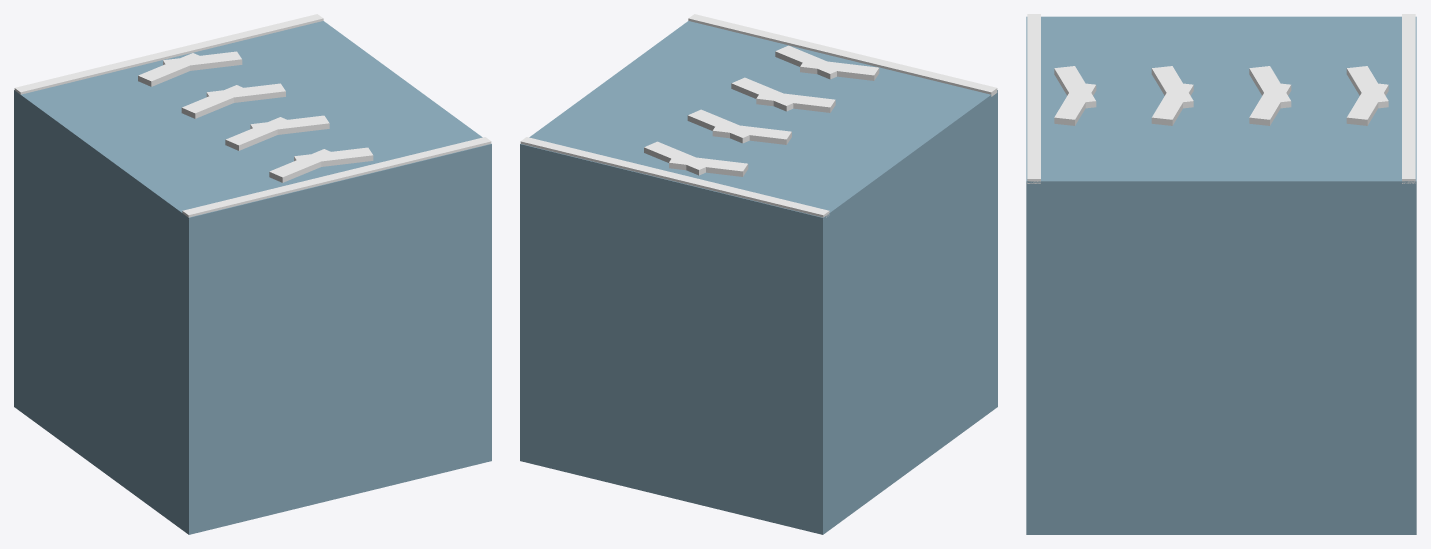
The model's file is Conveyor_Full.glb.
The picture shows the model from 3 angles, left to right: view 1: azimuth 30°, elevation 25°; view 2: azimuth 150°, elevation 25°; view 3: azimuth 270°, elevation 25°; orthographic projection. The views are drawn at different scales.
Visible parts, largest first — view 1: Conveyor_Full_body, rail_0.48, rail_-0.48, chev_0_1, chev_2_1, chev_1_1, chev_3_1, chev_1_-1, chev_0_-1, chev_2_-1, chev_3_-1; view 2: Conveyor_Full_body, rail_-0.48, rail_0.48, chev_2_1, chev_3_1, chev_1_-1, chev_0_-1, chev_0_1, chev_3_-1, chev_1_1, chev_2_-1; view 3: Conveyor_Full_body, rail_0.48, rail_-0.48, chev_3_-1, chev_2_-1, chev_1_-1, chev_0_-1, chev_3_1, chev_1_1, chev_2_1, chev_0_1.
Boxes of the visible parts, left/top/right/bottom form: Conveyor_Full_body: left=14, top=21, right=491, bottom=534; rail_0.48: left=14, top=14, right=323, bottom=94; rail_-0.48: left=182, top=137, right=491, bottom=217; chev_0_1: left=269, top=149, right=336, bottom=182; chev_2_1: left=181, top=85, right=249, bottom=118; chev_1_1: left=225, top=117, right=293, bottom=150; chev_3_1: left=138, top=53, right=205, bottom=86; chev_1_-1: left=250, top=115, right=329, bottom=134; chev_0_-1: left=294, top=147, right=373, bottom=166; chev_2_-1: left=206, top=83, right=285, bottom=102; chev_3_-1: left=163, top=51, right=242, bottom=70; Conveyor_Full_body: left=520, top=21, right=997, bottom=534; rail_-0.48: left=688, top=14, right=997, bottom=96; rail_0.48: left=520, top=137, right=829, bottom=217; chev_2_1: left=712, top=123, right=791, bottom=144; chev_3_1: left=669, top=155, right=748, bottom=176; chev_1_-1: left=731, top=77, right=799, bottom=111; chev_0_-1: left=775, top=45, right=843, bottom=79; chev_0_1: left=800, top=59, right=879, bottom=80; chev_3_-1: left=644, top=141, right=711, bottom=175; chev_1_1: left=756, top=92, right=835, bottom=112; chev_2_-1: left=687, top=109, right=749, bottom=143; Conveyor_Full_body: left=1026, top=16, right=1416, bottom=534; rail_0.48: left=1402, top=14, right=1415, bottom=183; rail_-0.48: left=1027, top=14, right=1040, bottom=183; chev_3_-1: left=1346, top=83, right=1388, bottom=125; chev_2_-1: left=1249, top=82, right=1291, bottom=125; chev_1_-1: left=1151, top=82, right=1193, bottom=125; chev_0_-1: left=1054, top=82, right=1096, bottom=125; chev_3_1: left=1346, top=66, right=1388, bottom=108; chev_1_1: left=1151, top=66, right=1193, bottom=108; chev_2_1: left=1249, top=66, right=1291, bottom=108; chev_0_1: left=1054, top=66, right=1096, bottom=108.
Size of the model in its own units: 1 by 1.02 by 1.
